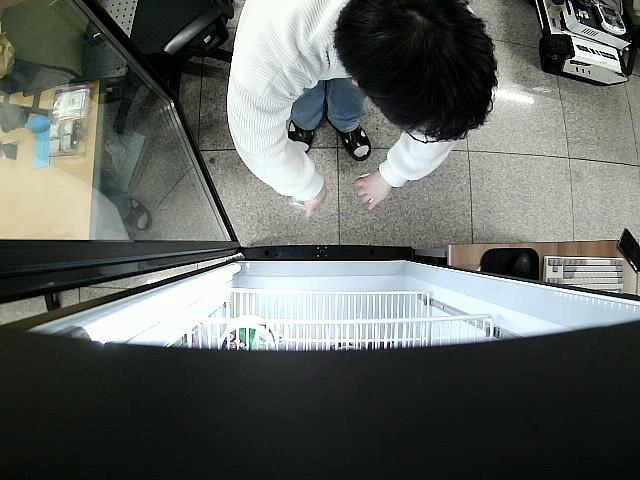00_hand: (354, 171, 392, 211)
